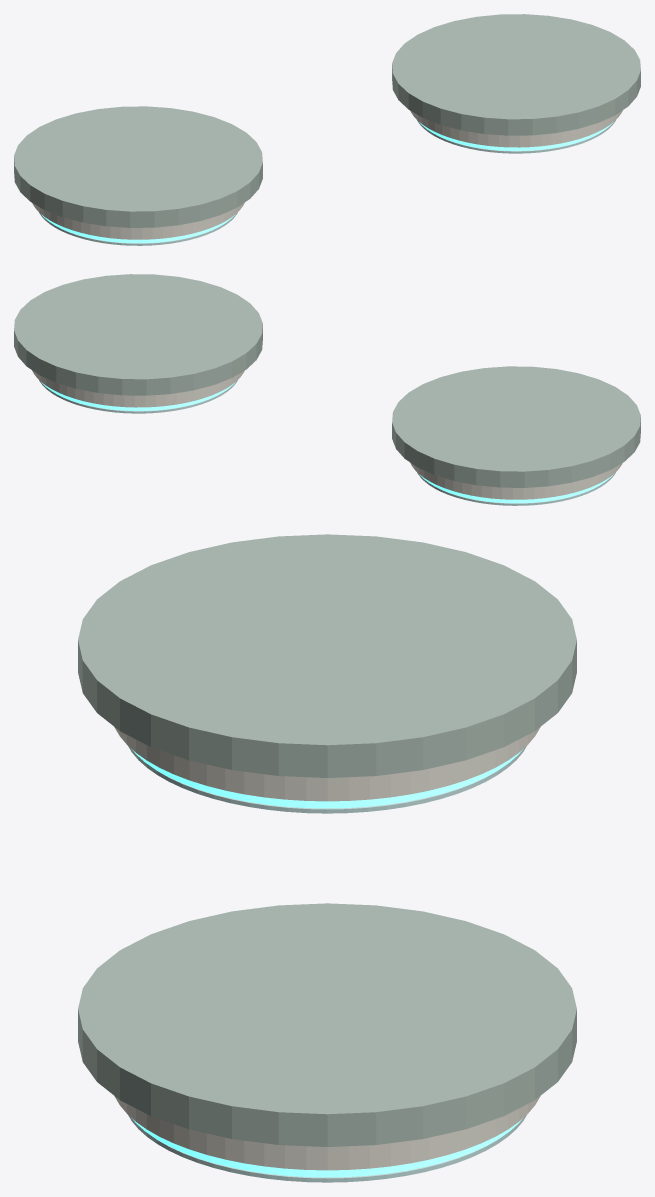
Rendered from s7-lc3-corridor-ceiling-ring-pair.glb.
3 views of the same model, one above another, from view 1: azimuth 30°, elevation 25°; view 2: azimuth 150°, elevation 25°; view 3: azimuth 270°, elevation 25° (orthographic). The views are drawn at different scales.
Visible parts, largest first — view 1: 005_corridor_ceiling_backplate_1, 000_corridor_ceiling_backplate_0, 006_ceiling_recessed_bezel_1, 001_ceiling_recessed_bezel_0, 002_recessed_ring_emitter_0, 007_recessed_ring_emitter_1, 008_ring_diffuser_1, 003_ring_diffuser_0; view 2: 005_corridor_ceiling_backplate_1, 000_corridor_ceiling_backplate_0, 006_ceiling_recessed_bezel_1, 001_ceiling_recessed_bezel_0, 002_recessed_ring_emitter_0, 007_recessed_ring_emitter_1, 008_ring_diffuser_1, 003_ring_diffuser_0; view 3: 000_corridor_ceiling_backplate_0, 005_corridor_ceiling_backplate_1, 006_ceiling_recessed_bezel_1, 001_ceiling_recessed_bezel_0, 002_recessed_ring_emitter_0, 007_recessed_ring_emitter_1, 008_ring_diffuser_1, 003_ring_diffuser_0.
Part boxes in pixels (box(x1,y1,x2,y2)): 005_corridor_ceiling_backplate_1: box(392, 14, 640, 135); 000_corridor_ceiling_backplate_0: box(14, 106, 262, 227); 006_ceiling_recessed_bezel_1: box(410, 110, 622, 147); 001_ceiling_recessed_bezel_0: box(32, 202, 244, 239); 002_recessed_ring_emitter_0: box(41, 214, 235, 243); 007_recessed_ring_emitter_1: box(419, 122, 613, 150); 008_ring_diffuser_1: box(417, 120, 615, 153); 003_ring_diffuser_0: box(39, 212, 237, 245); 005_corridor_ceiling_backplate_1: box(14, 274, 262, 395); 000_corridor_ceiling_backplate_0: box(392, 366, 640, 487); 006_ceiling_recessed_bezel_1: box(32, 370, 244, 407); 001_ceiling_recessed_bezel_0: box(410, 462, 622, 499); 002_recessed_ring_emitter_0: box(419, 474, 613, 503); 007_recessed_ring_emitter_1: box(41, 382, 235, 410); 008_ring_diffuser_1: box(39, 380, 237, 413); 003_ring_diffuser_0: box(417, 472, 615, 505); 000_corridor_ceiling_backplate_0: box(78, 534, 576, 777); 005_corridor_ceiling_backplate_1: box(78, 903, 576, 1146); 006_ceiling_recessed_bezel_1: box(114, 1096, 540, 1170); 001_ceiling_recessed_bezel_0: box(114, 727, 540, 801); 002_recessed_ring_emitter_0: box(132, 749, 522, 808); 007_recessed_ring_emitter_1: box(132, 1118, 522, 1177); 008_ring_diffuser_1: box(128, 1115, 526, 1182); 003_ring_diffuser_0: box(128, 746, 526, 813).
Size of the model in its own units: 1.21 by 0.088 by 0.44.
